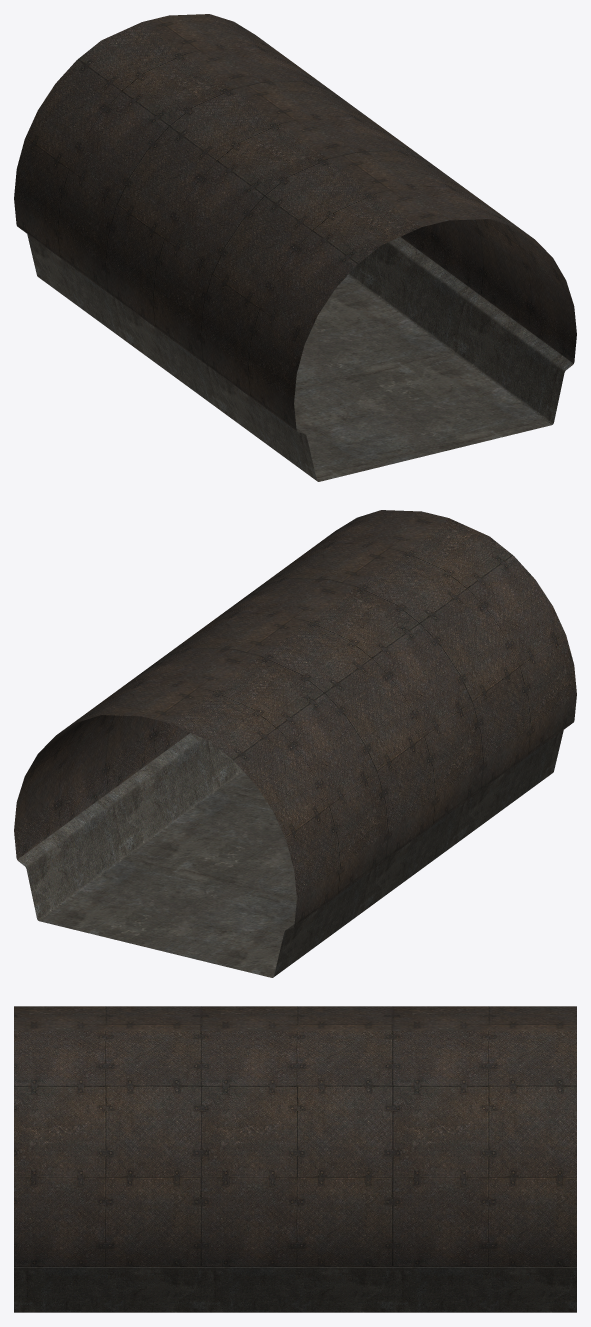
Rendered from tunnel_straight.fbx.
The picture shows the model from 3 angles, top to bottom: view 1: azimuth 30°, elevation 25°; view 2: azimuth 150°, elevation 25°; view 3: azimuth 270°, elevation 25°; orthographic projection.
Parts seen in each view (by area): view 1: tunnel_straight; view 2: tunnel_straight; view 3: tunnel_straight.
Boxes of the visible parts, x1,y1,x2,y2 form: tunnel_straight: [14, 14, 576, 481]; tunnel_straight: [14, 510, 576, 977]; tunnel_straight: [14, 1006, 576, 1312].
Size of the model in its own units: 3.5 by 6 by 2.72.
